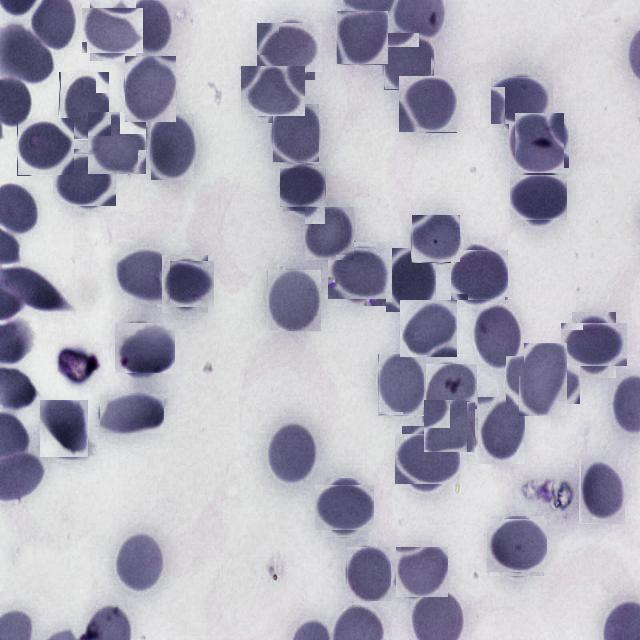red blood cell: (88, 112, 148, 174), (512, 350, 574, 410), (473, 304, 524, 376), (59, 72, 110, 140), (55, 152, 114, 210), (125, 56, 176, 122), (331, 245, 389, 303), (398, 430, 456, 488), (244, 62, 302, 120), (267, 270, 321, 332), (17, 118, 74, 176), (261, 19, 319, 76), (400, 300, 457, 357), (488, 518, 546, 574), (386, 248, 436, 312), (400, 76, 457, 132), (268, 421, 318, 484), (478, 397, 525, 464), (566, 318, 622, 372), (494, 74, 550, 128), (580, 459, 626, 524), (118, 320, 172, 375), (452, 248, 506, 302), (512, 116, 566, 170), (318, 481, 372, 534), (86, 4, 140, 57), (378, 354, 424, 416), (384, 33, 434, 90), (39, 400, 88, 458), (151, 114, 194, 180), (118, 250, 170, 304), (336, 11, 388, 65), (272, 104, 319, 163), (159, 258, 211, 310), (513, 172, 565, 224), (424, 400, 476, 452), (395, 547, 448, 598), (304, 207, 354, 260), (117, 533, 161, 590), (100, 394, 164, 433), (346, 547, 391, 602), (411, 215, 460, 262), (426, 364, 477, 409), (282, 166, 325, 209)
